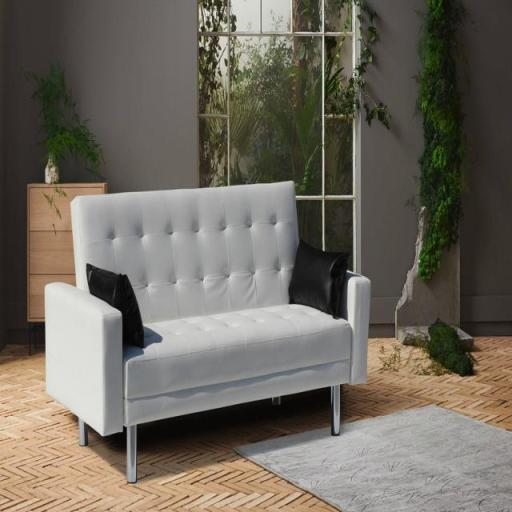sofa: (40, 175, 415, 477)
